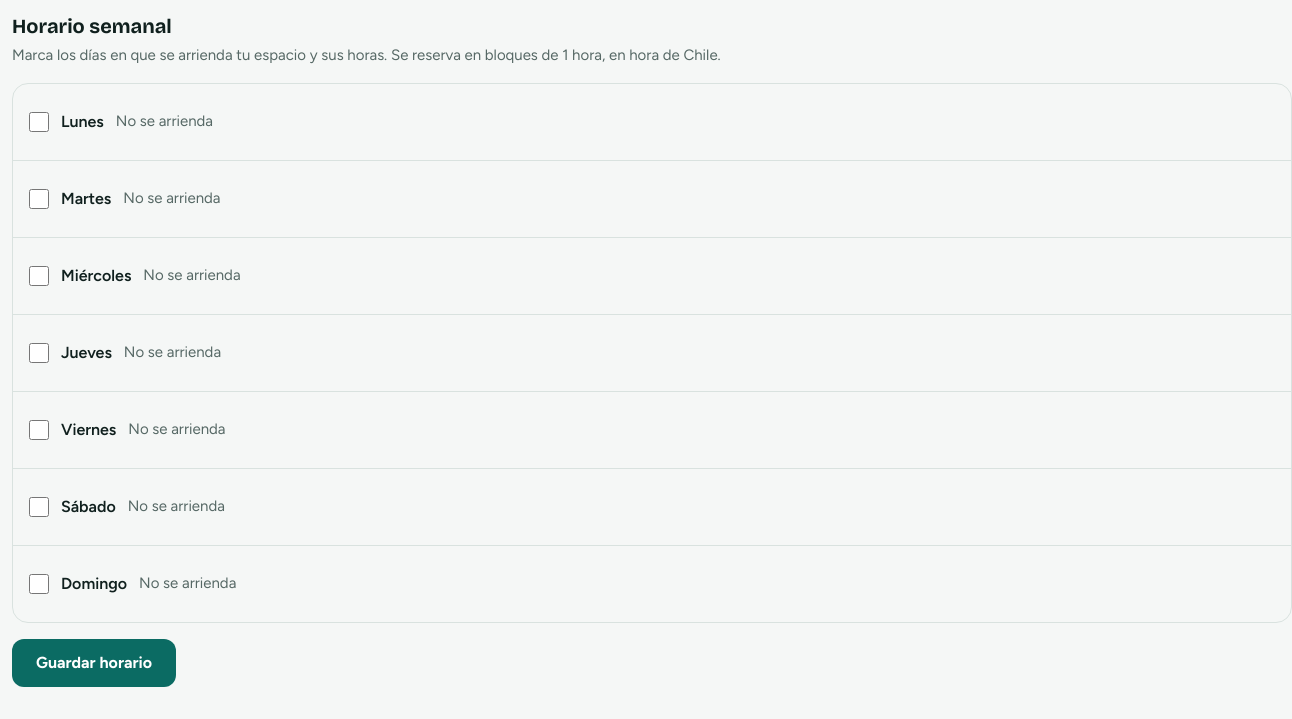
Scenario: WeeklySchedule › el rango nuevo parte donde termina el anterior, y se puede quitar
This screenshot has width=1292, height=719.
Expected: the button "Guardar horario" is shown, [12,638,176,686]
Step 1. Click the checkbox labelled "Viernes No se arrienda" → click(39, 430), box [29,420,49,440]
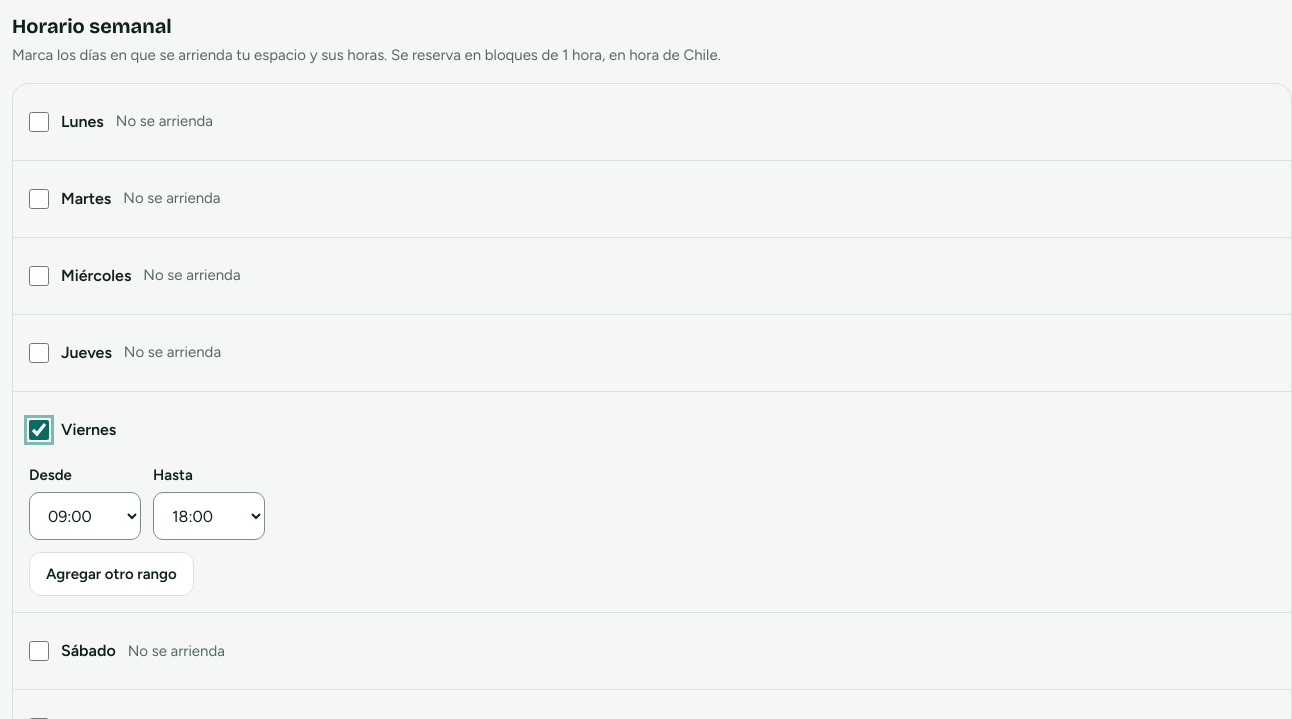
Step 2. Click the button with aria-label "Agregar otro rango el viernes" → click(111, 574), box [29,552,194,596]
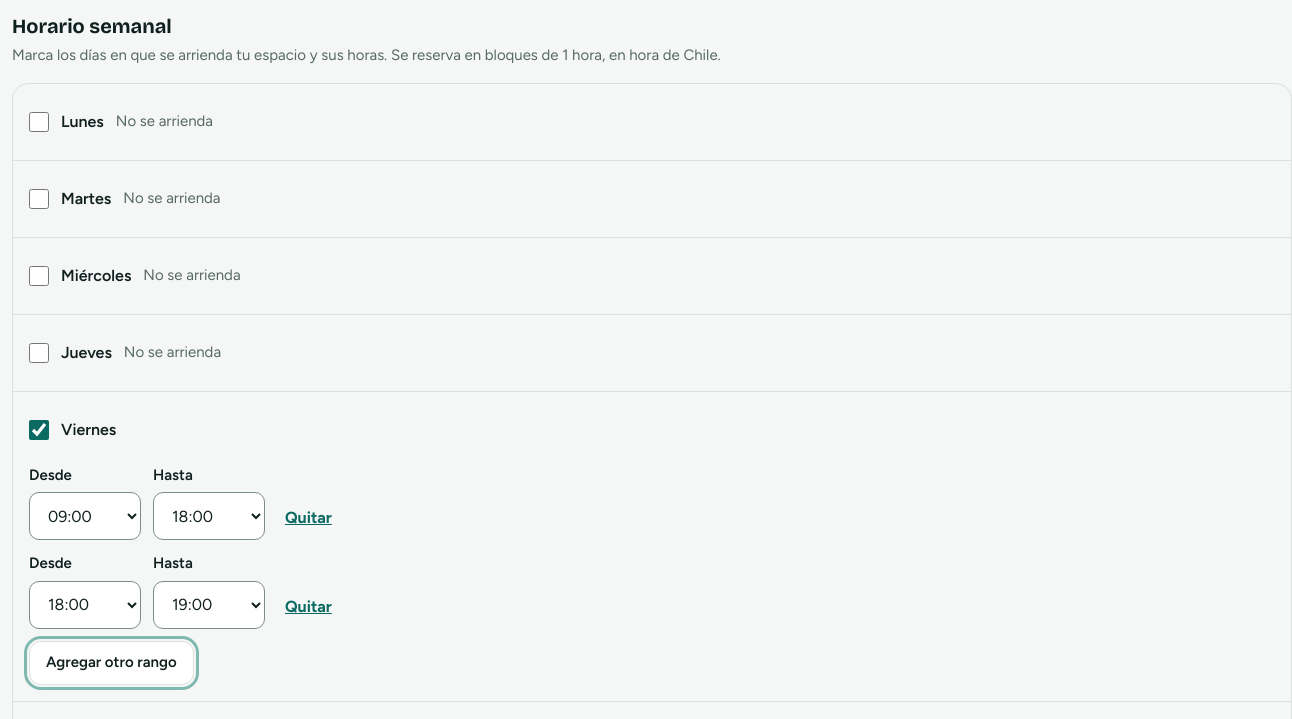
Expected: the dropdown named "Viernes, rango 2, desde" shows "18:00", [29,580,141,628]
Step 3. Click the button with aria-label "Quitar el rango 1 del viernes" → click(308, 518), box [277,496,340,540]
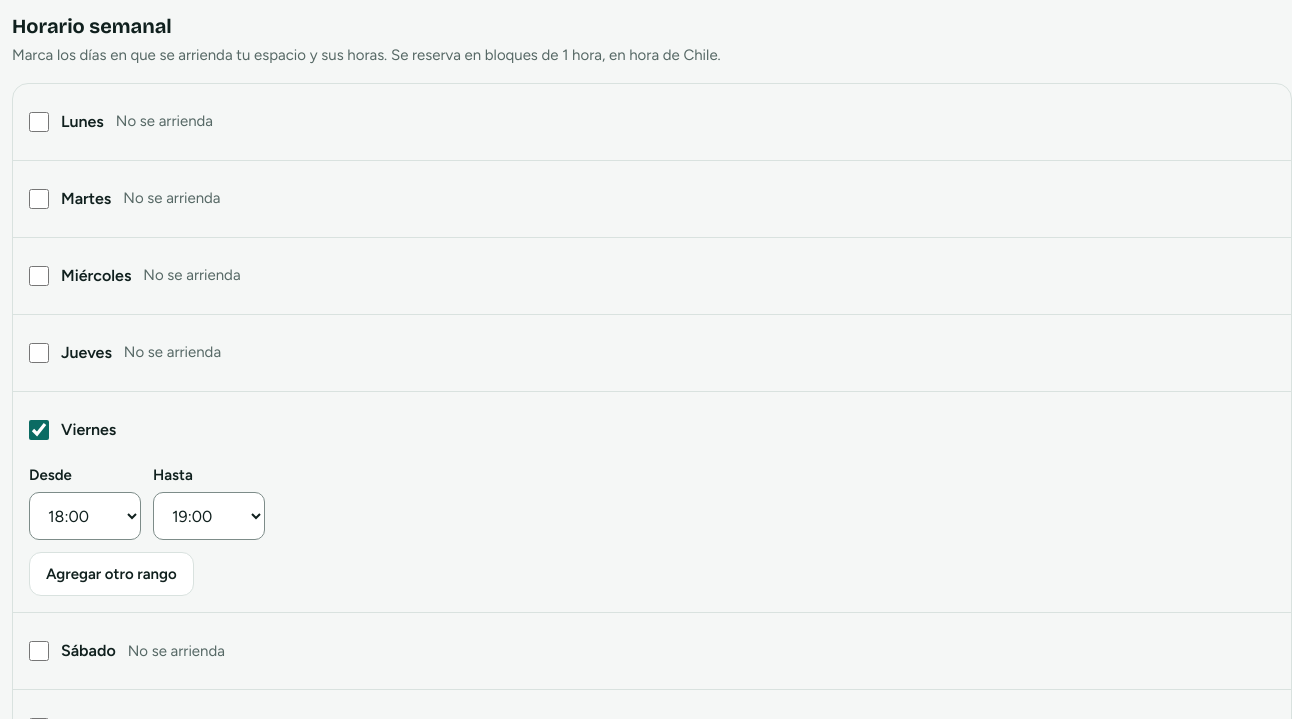
Expected: the button "Quitar" is gone
